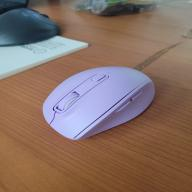mouse: (30, 51, 162, 139), (1, 4, 64, 48)
